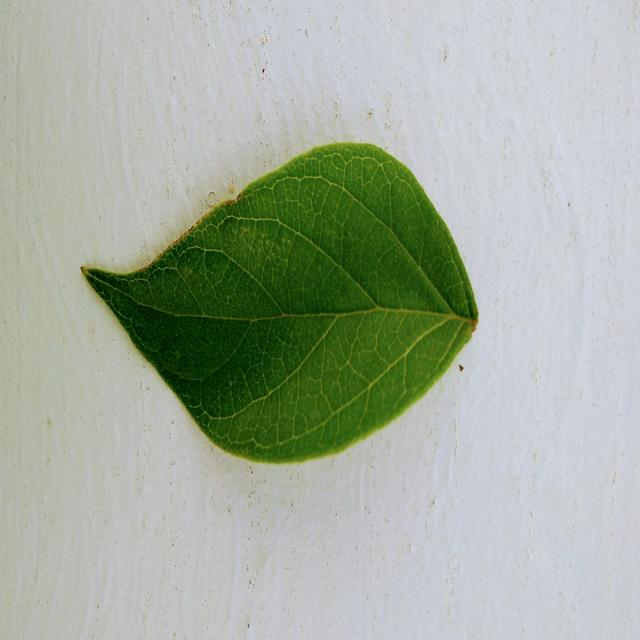Parijatha: (84, 144, 478, 462)
